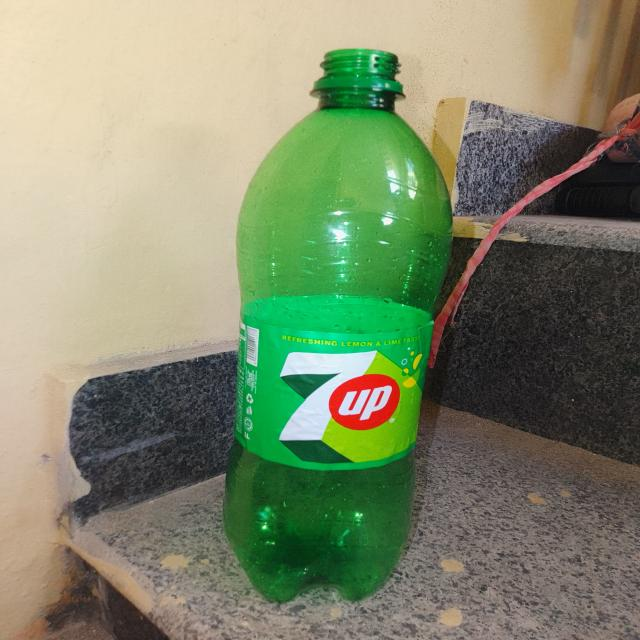bottle: (211, 38, 469, 607)
label: (240, 317, 426, 483)
